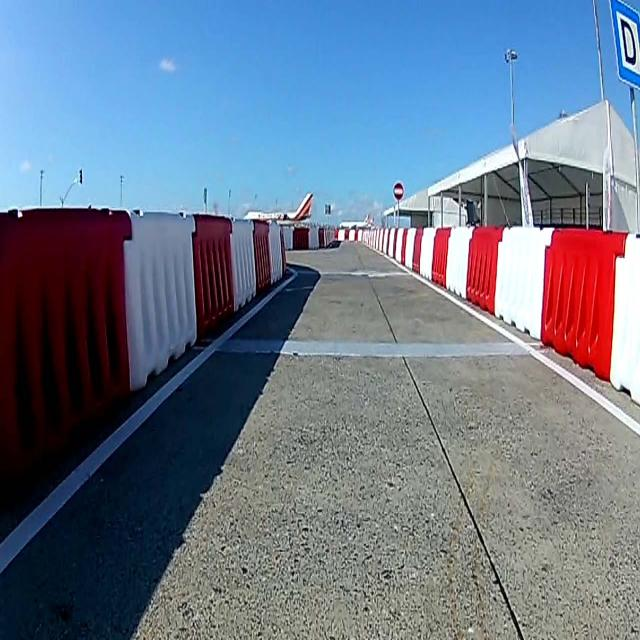durak: (609, 1, 640, 91)
girisyok: (393, 182, 403, 201)
